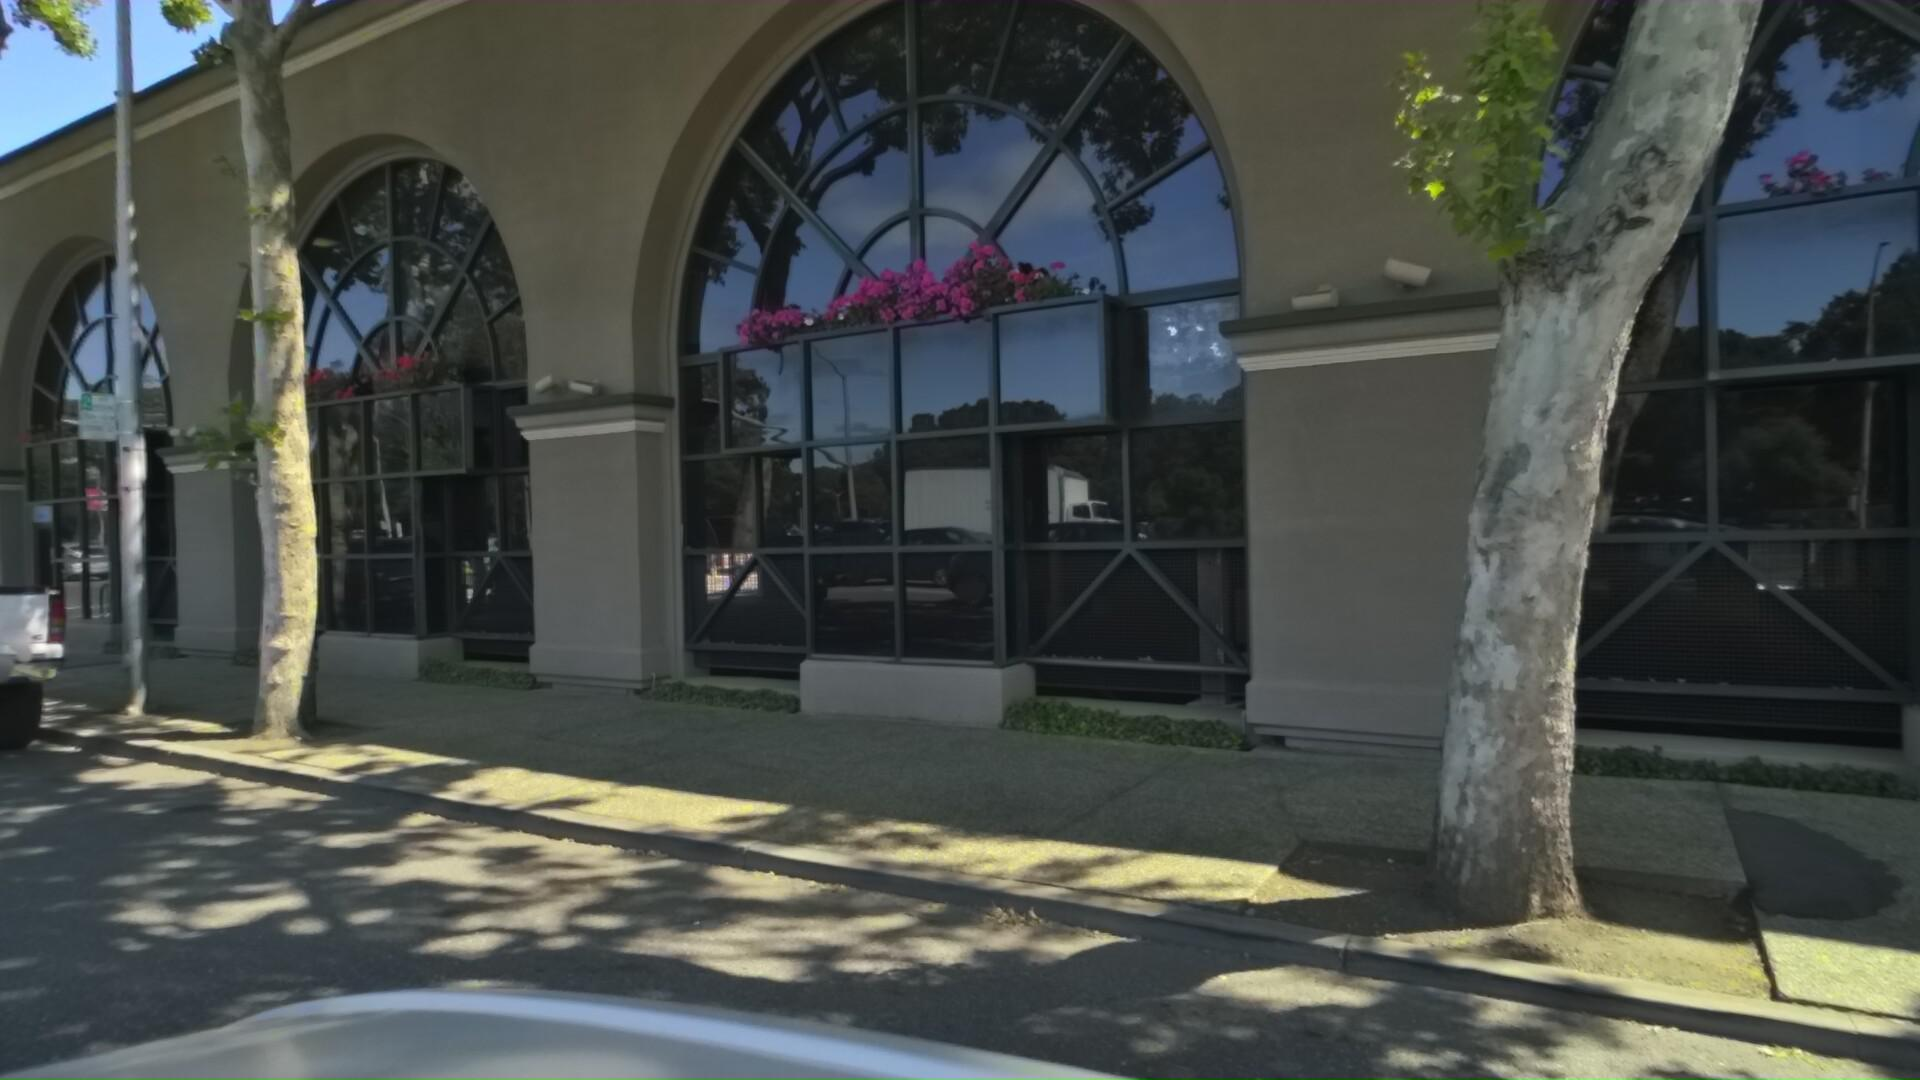car: (0, 496, 105, 814)
